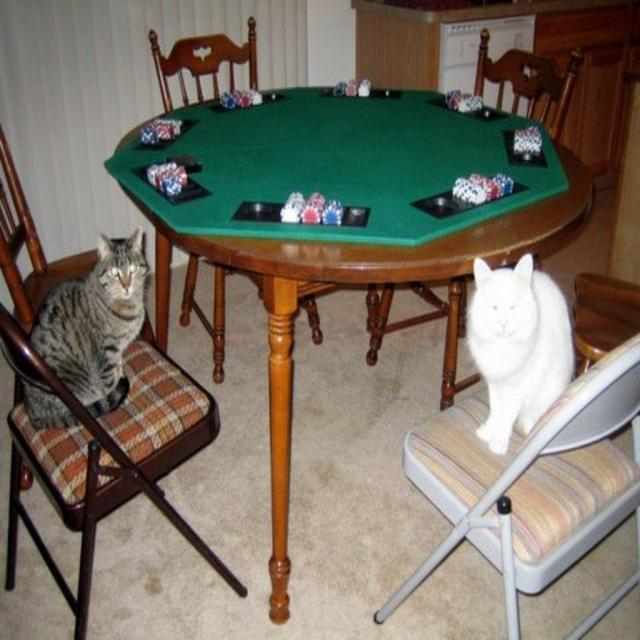table: (103, 87, 593, 622)
